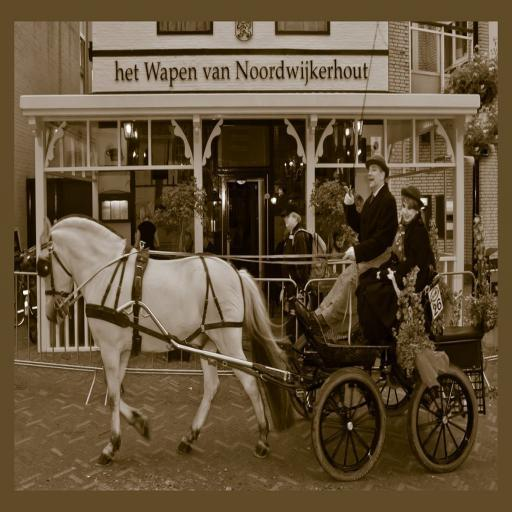Horse: (36, 213, 294, 467)
